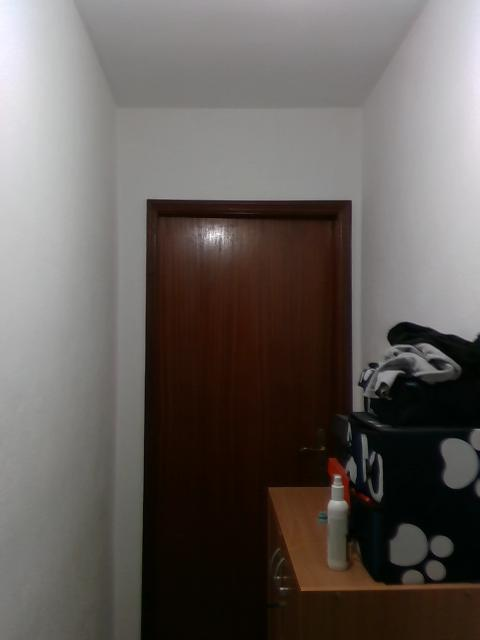door: (157, 216, 335, 640)
